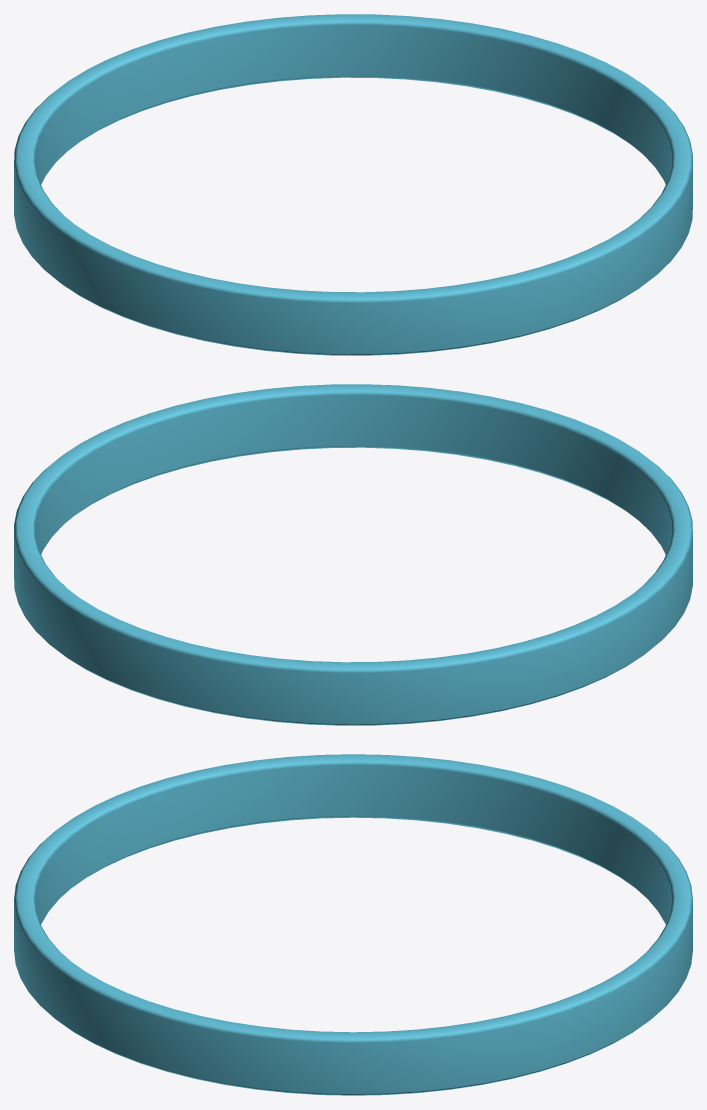
3 views of the same model, one above another, from view 1: azimuth 30°, elevation 25°; view 2: azimuth 150°, elevation 25°; view 3: azimuth 270°, elevation 25° (orthographic).
Visible parts, largest first — view 1: seal_body; view 2: seal_body; view 3: seal_body.
Part boxes in pixels (box(x1,y1,x2,y2)): seal_body: box(14, 14, 692, 355); seal_body: box(14, 384, 692, 725); seal_body: box(14, 754, 692, 1095).
Size of the model in its own units: 0.1014 by 0.00952 by 0.1014.
